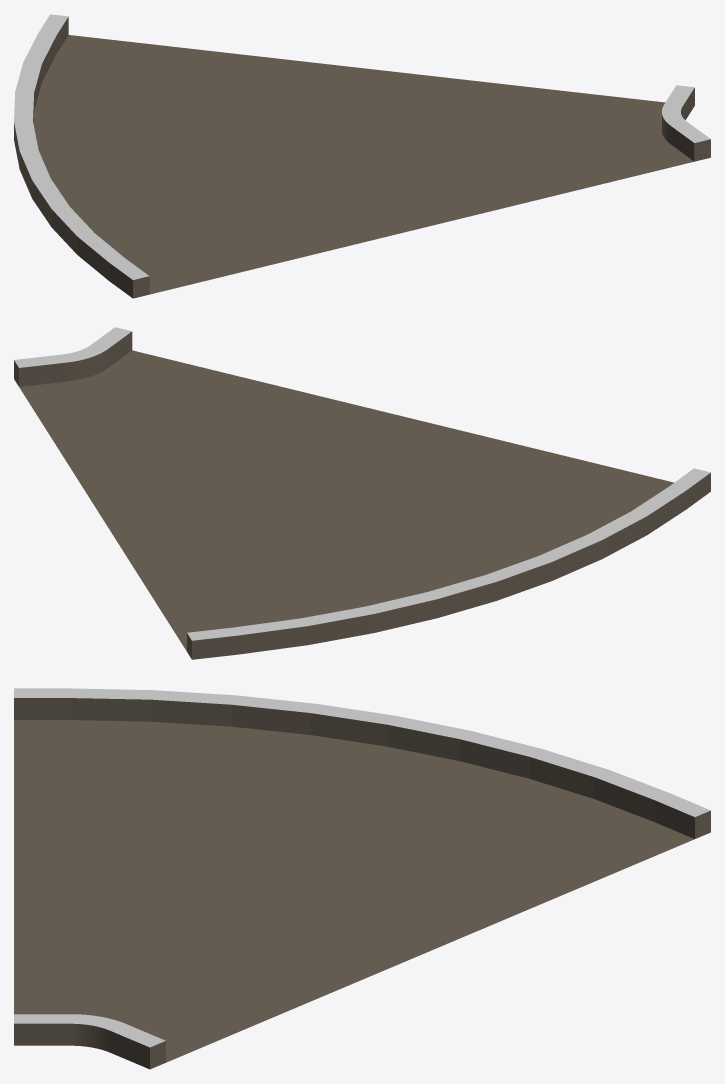
Rendered from s-45.edge.fbx.
The picture shows the model from 3 angles, top to bottom: view 1: azimuth 30°, elevation 25°; view 2: azimuth 150°, elevation 25°; view 3: azimuth 270°, elevation 25°; orthographic projection. The views are drawn at different scales.
Visible parts, largest first — view 1: s-45.edge; view 2: s-45.edge; view 3: s-45.edge.
Part boxes in pixels (x1,y1,x2,y2): s-45.edge: (14, 14, 710, 298); s-45.edge: (14, 327, 710, 659); s-45.edge: (14, 688, 710, 1069).
Bounding box in the file's own units: 2627 × 75 × 2155.
